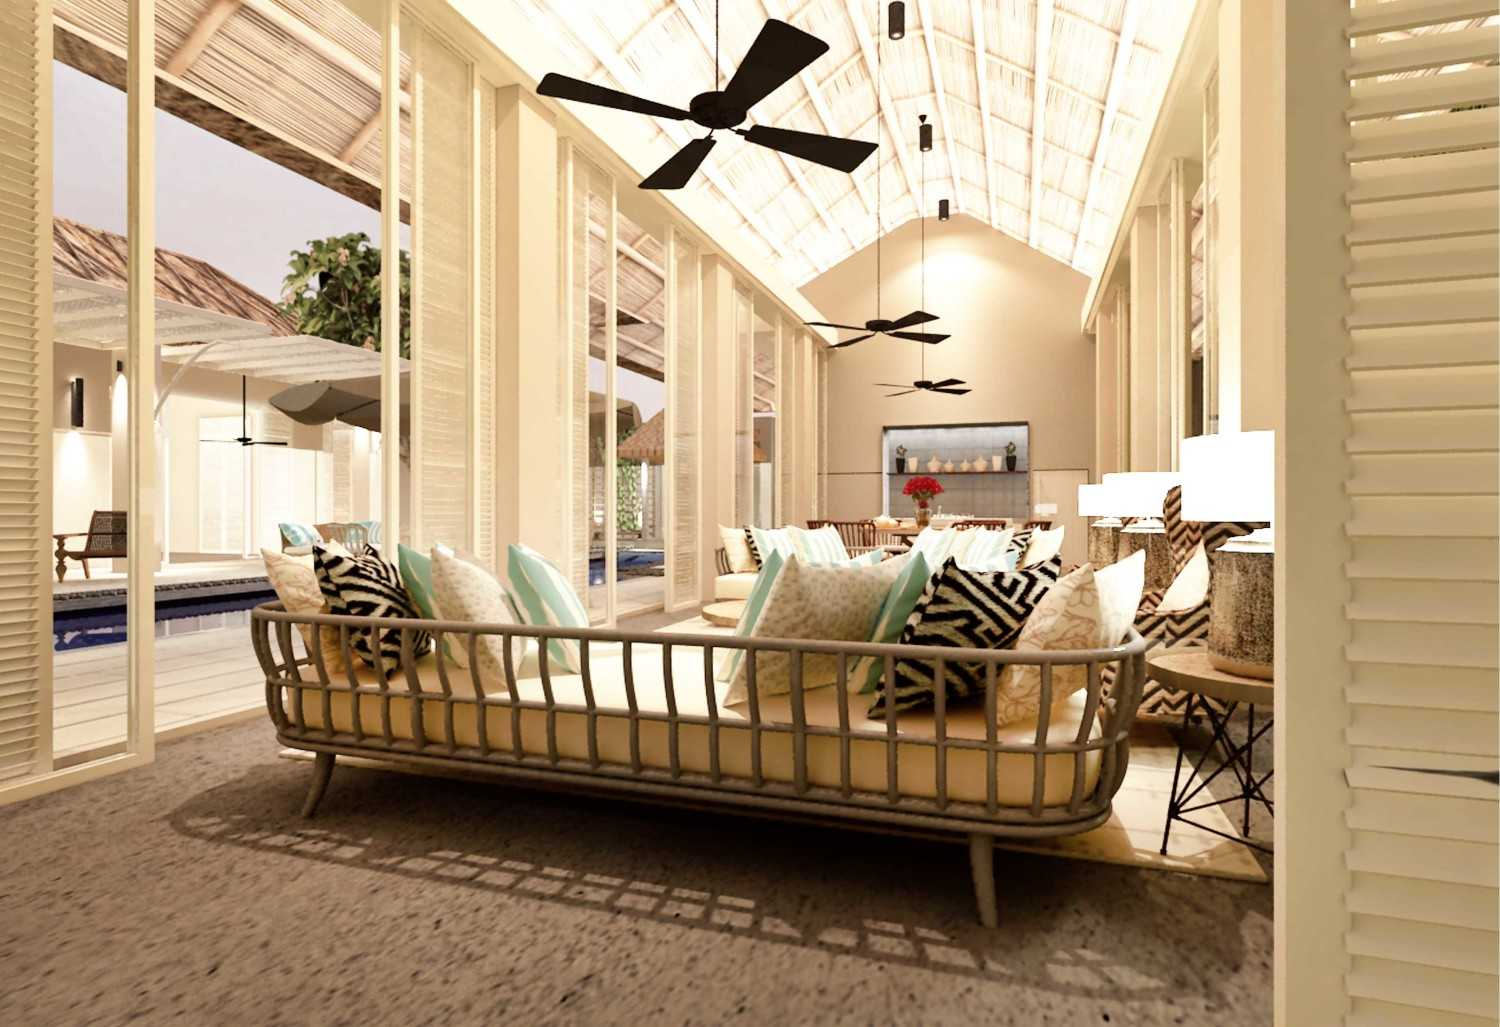bantal: (729, 557, 881, 706), (897, 562, 1028, 712), (1026, 567, 1133, 706), (317, 546, 424, 667), (429, 546, 512, 673), (508, 548, 596, 667)
kursi: (55, 510, 125, 582)
lampu: (1177, 427, 1275, 678)
meja: (1158, 635, 1275, 866)
sova: (226, 522, 1143, 929)
tanaman: (285, 241, 394, 347), (896, 476, 944, 515)
